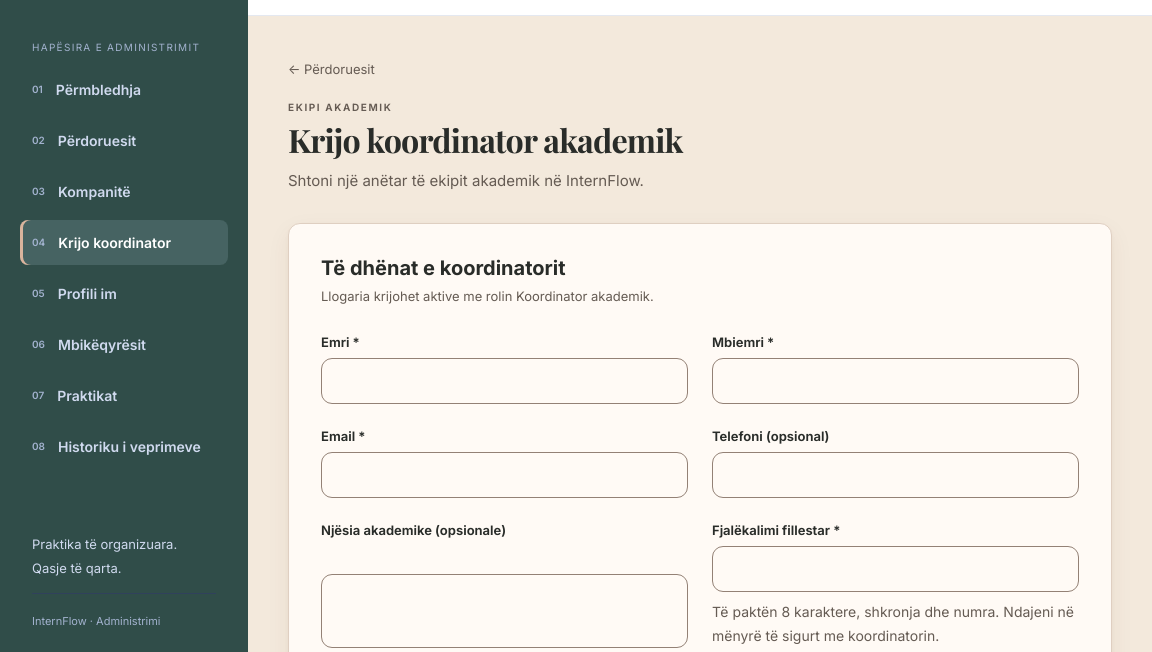
Test: Admin area › submits the create form and navigates to safe coordinator details
The width and height of the screenshot is (1152, 652).
Type "Diella" into the field labelled "Emri *". click: (504, 381)
box: x1=321 y1=358 x2=688 y2=404
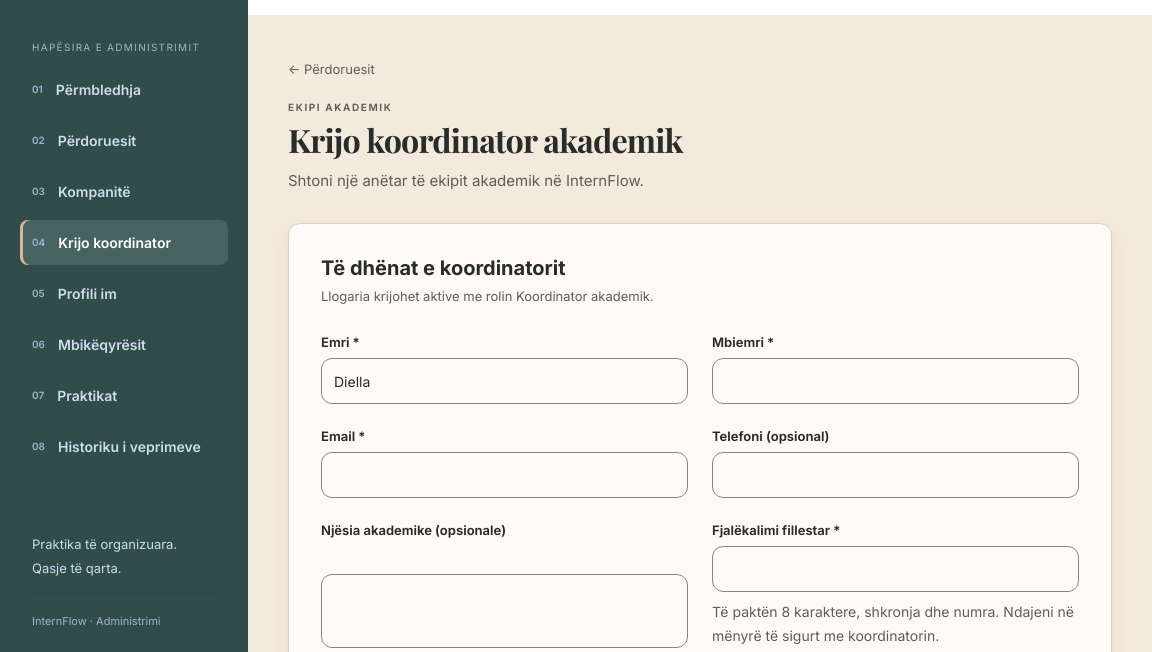
Type "Hoxha" into the field labelled "Mbiemri *". click: (896, 381)
box: x1=712 y1=358 x2=1079 y2=404
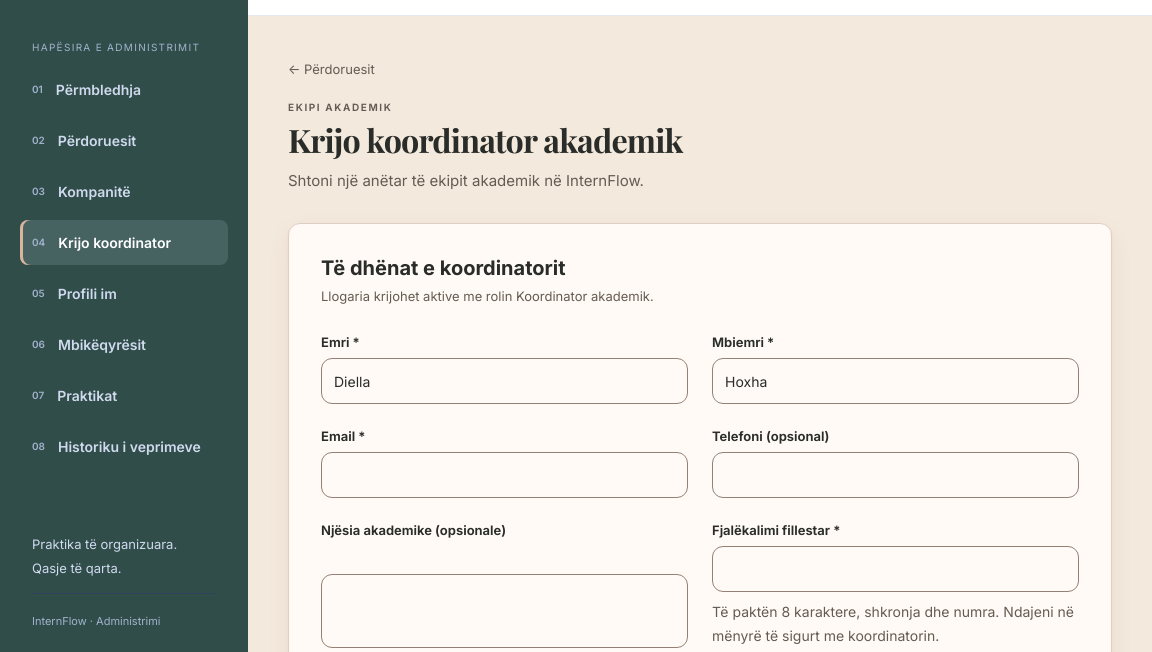
Type "diella@example.test" into the field labelled "Email *". click: (504, 475)
box: x1=321 y1=452 x2=688 y2=498
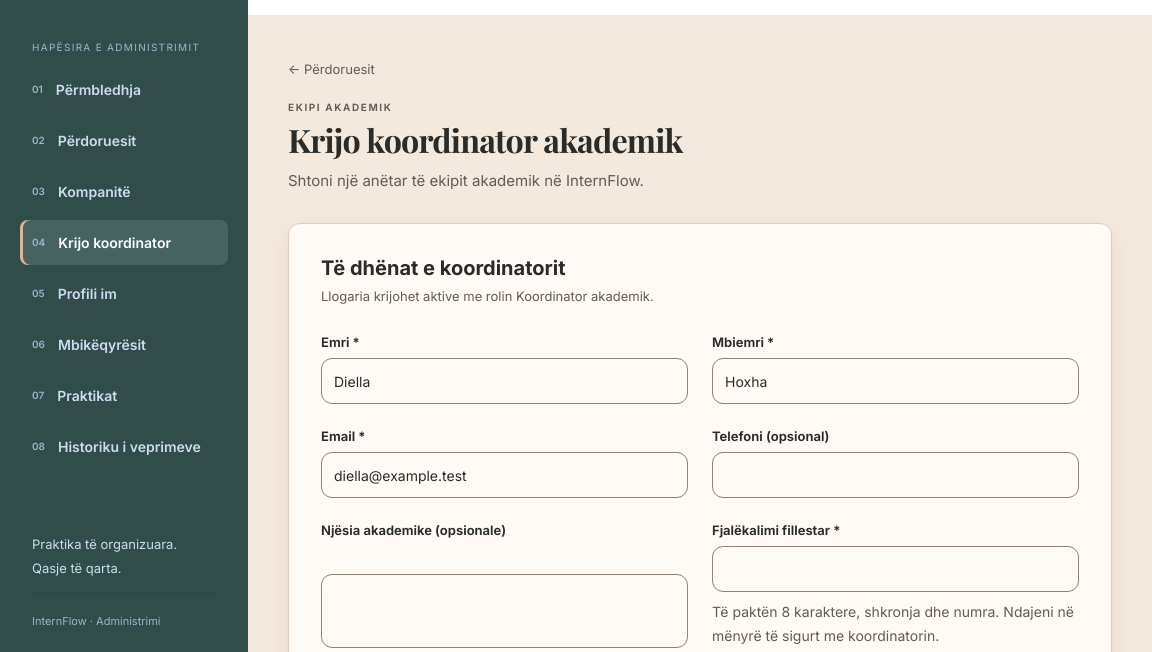
Type "Coordinator123" into the password field labelled "Fjalëkalimi fillestar *". click: (896, 569)
box: x1=712 y1=546 x2=1079 y2=592
(page scrolled)
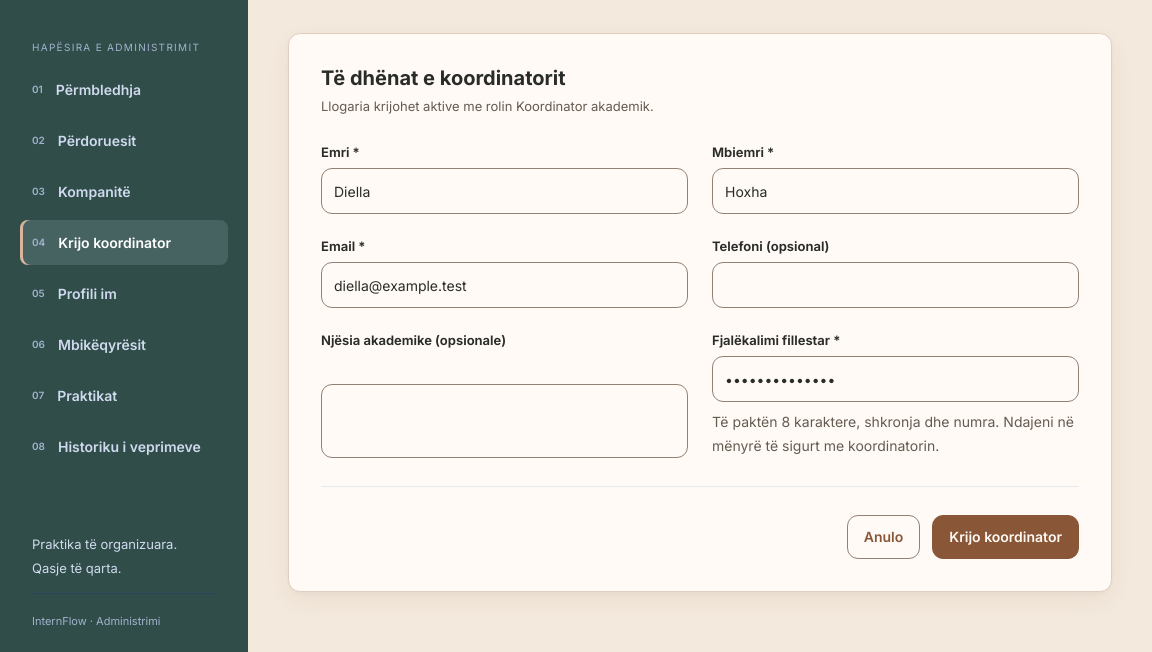
Click the button "Krijo koordinator". click: (1006, 537)
box: x1=932 y1=515 x2=1079 y2=559
(page scrolled)
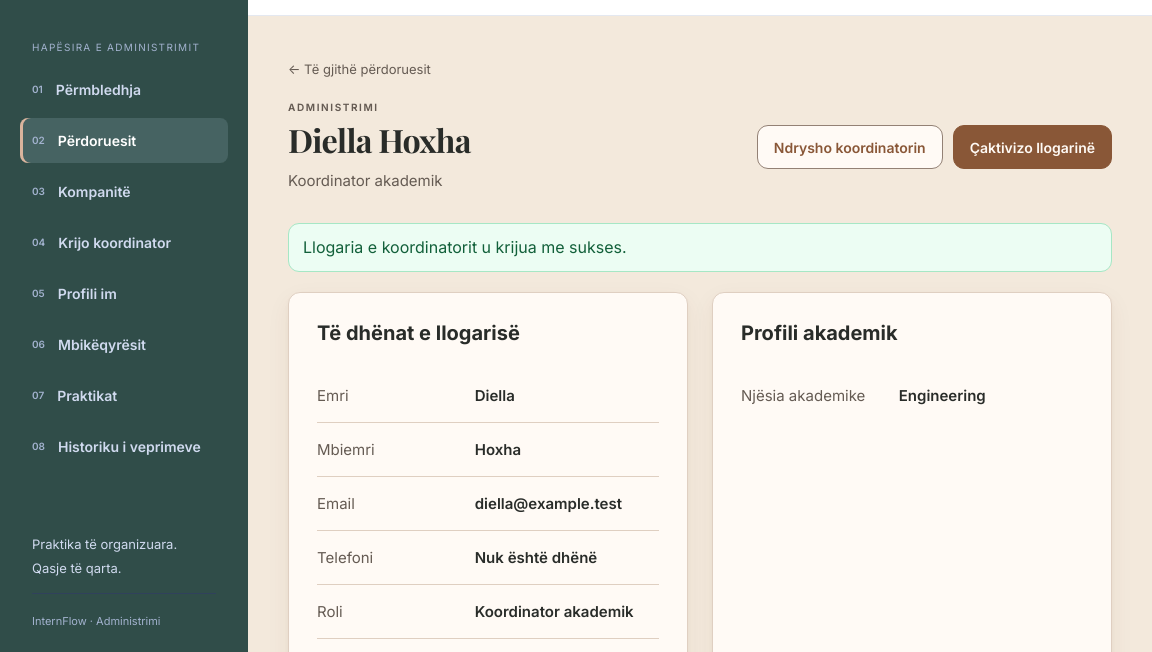
expect the text "Llogaria e koordinatorit u krijua me sukses." is shown: met, box x1=288 y1=223 x2=1112 y2=272
